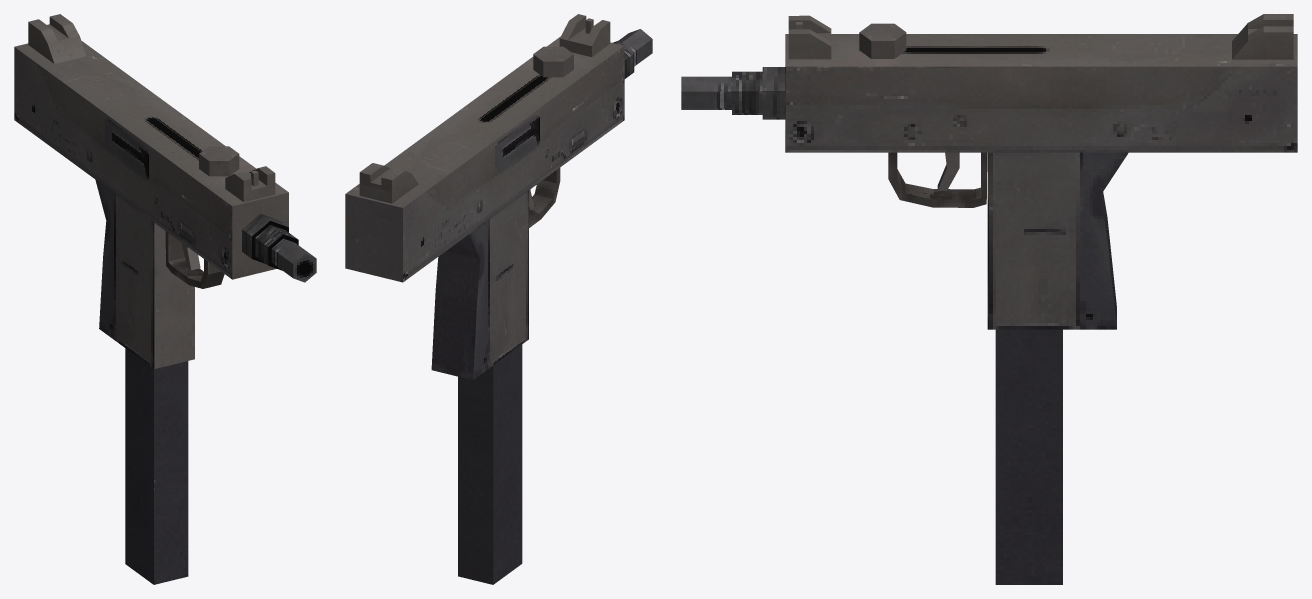
The model's file is psx_mac-10.glb.
The picture shows the model from 3 angles, left to right: view 1: azimuth 30°, elevation 25°; view 2: azimuth 150°, elevation 25°; view 3: azimuth 270°, elevation 25°; orthographic projection. The views are drawn at different scales.
Parts seen in each view (by area): view 1: SM_MAC10_0; view 2: SM_MAC10_0; view 3: SM_MAC10_0.
Part boxes in pixels (x1=…): SM_MAC10_0: x1=14, y1=14, x2=316, y2=584; SM_MAC10_0: x1=345, y1=14, x2=652, y2=584; SM_MAC10_0: x1=681, y1=14, x2=1297, y2=584.
Bounding box in the file's own units: 0.0432 × 0.3415 × 0.3455.
1 material, 1 textured.
